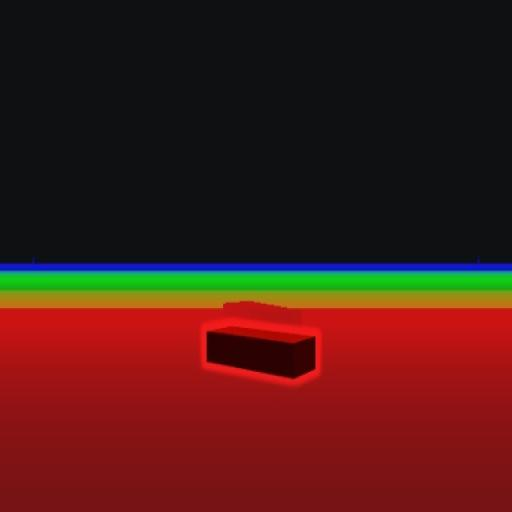debris_container: (202, 319, 319, 380)
